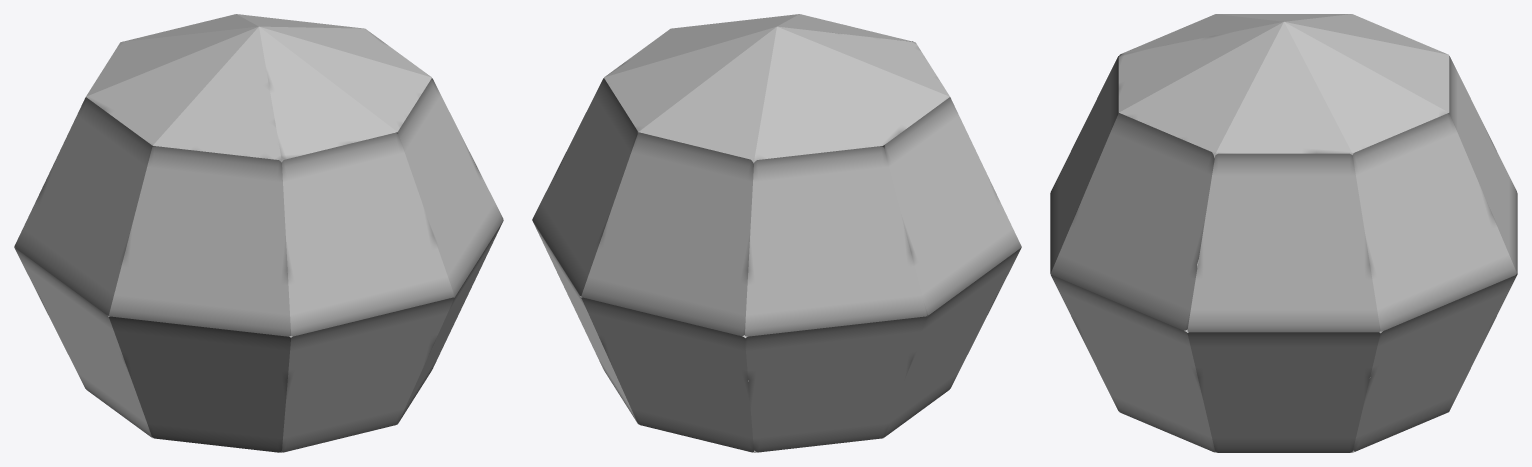
Rendered from ball_radar.obj.
3 views of the same model, side by side, from view 1: azimuth 30°, elevation 25°; view 2: azimuth 150°, elevation 25°; view 3: azimuth 270°, elevation 25° (orthographic). The views are drawn at different scales.
Parts seen in each view (by area): view 1: sphere; view 2: sphere; view 3: sphere.
Boxes of the visible parts, box(x1,y1,x2,y2) form: sphere: box(14, 14, 503, 452); sphere: box(532, 14, 1021, 452); sphere: box(1050, 14, 1517, 452).
Bounding box in the file's own units: 2 × 2 × 2.
